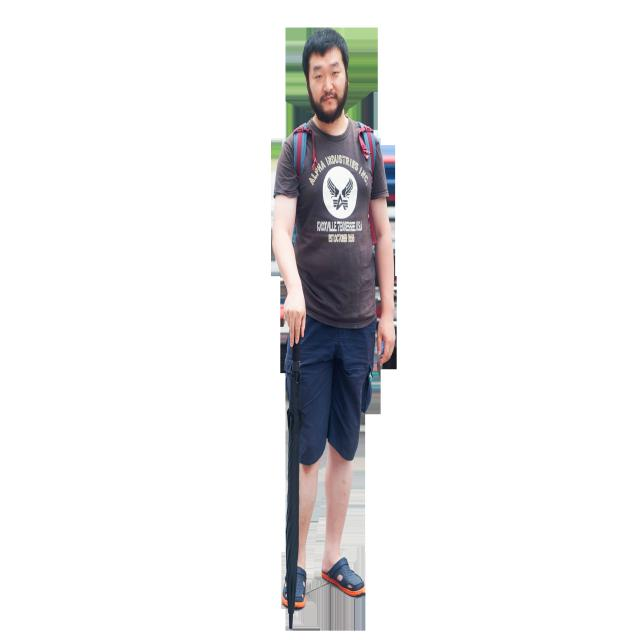jovem: (268, 28, 403, 610)
